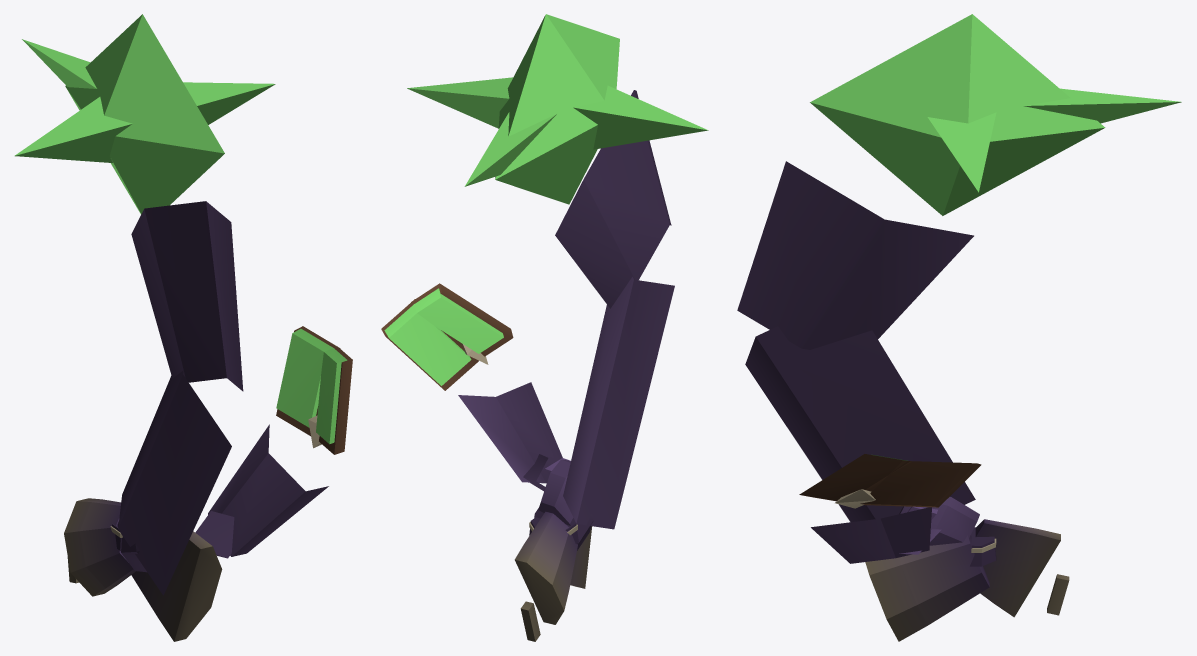
The model's file is acolyte.glb.
The picture shows the model from 3 angles, left to right: view 1: azimuth 30°, elevation 25°; view 2: azimuth 150°, elevation 25°; view 3: azimuth 270°, elevation 25°; orthographic projection. The views are drawn at different scales.
Visible parts, largest first — view 1: acolyte; view 2: acolyte; view 3: acolyte.
Part boxes in pixels (<box>): acolyte: <box>14,14,352,641</box>; acolyte: <box>381,14,708,641</box>; acolyte: <box>737,14,1181,641</box>.
Size of the model in its own units: 3.03 by 5.59 by 3.62.
